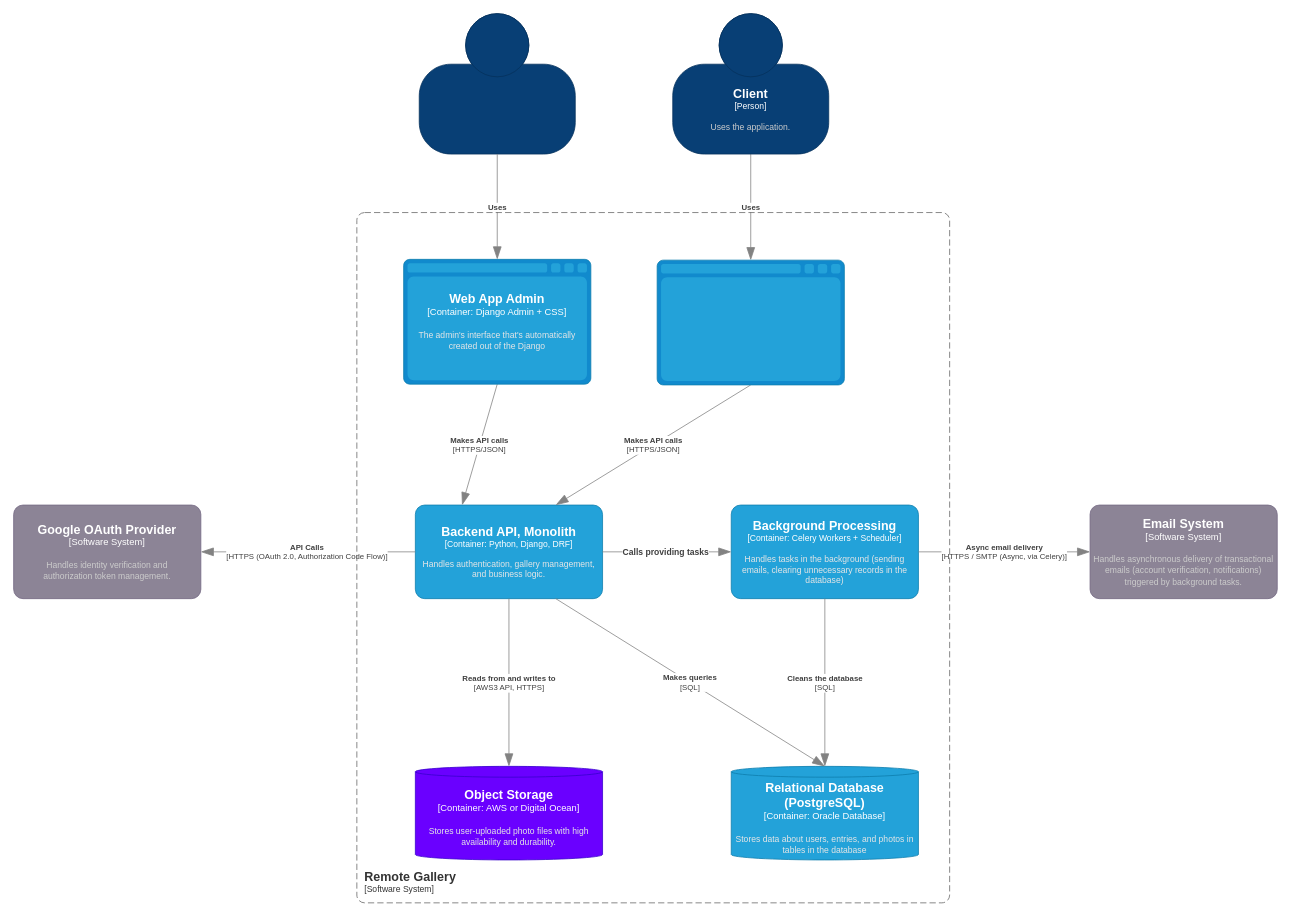
This 1291x916 diagram has some shape labels left out. Each missing label, with the centre of its shape:
Admin [Person] Handle the user's requests: the point at 496,83
React Frontend [Container: Typescript, React] Web interface for a regular user: the point at 750,322
